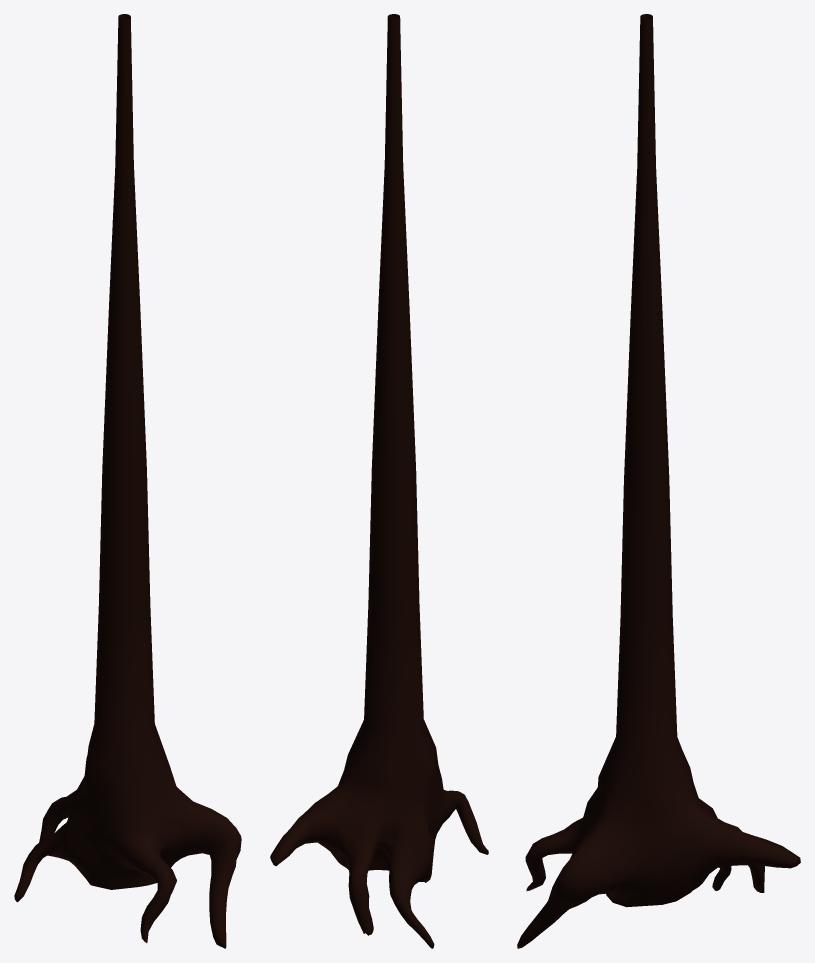
Rendered from TallTree_TopLeft.FBX.
3 views of the same model, side by side, from view 1: azimuth 30°, elevation 25°; view 2: azimuth 150°, elevation 25°; view 3: azimuth 270°, elevation 25° (orthographic). The views are drawn at different scales.
Parts seen in each view (by area): view 1: Top Left; view 2: Top Left; view 3: Top Left.
Boxes of the visible parts, x1=… form: Top Left: x1=14, y1=14, x2=241, y2=948; Top Left: x1=270, y1=14, x2=488, y2=948; Top Left: x1=517, y1=14, x2=800, y2=948.
Bounding box in the file's own units: 2723 × 15320 × 4313.
